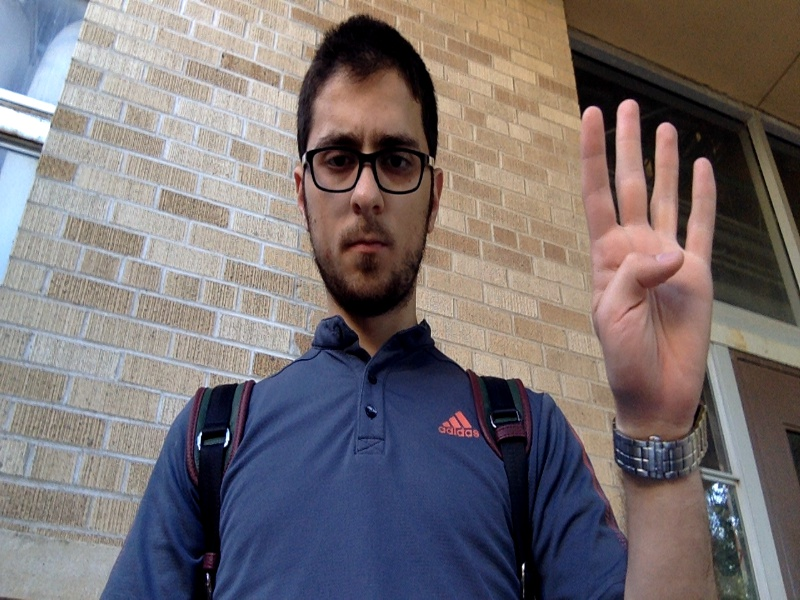4-hand: (583, 99, 715, 416)
